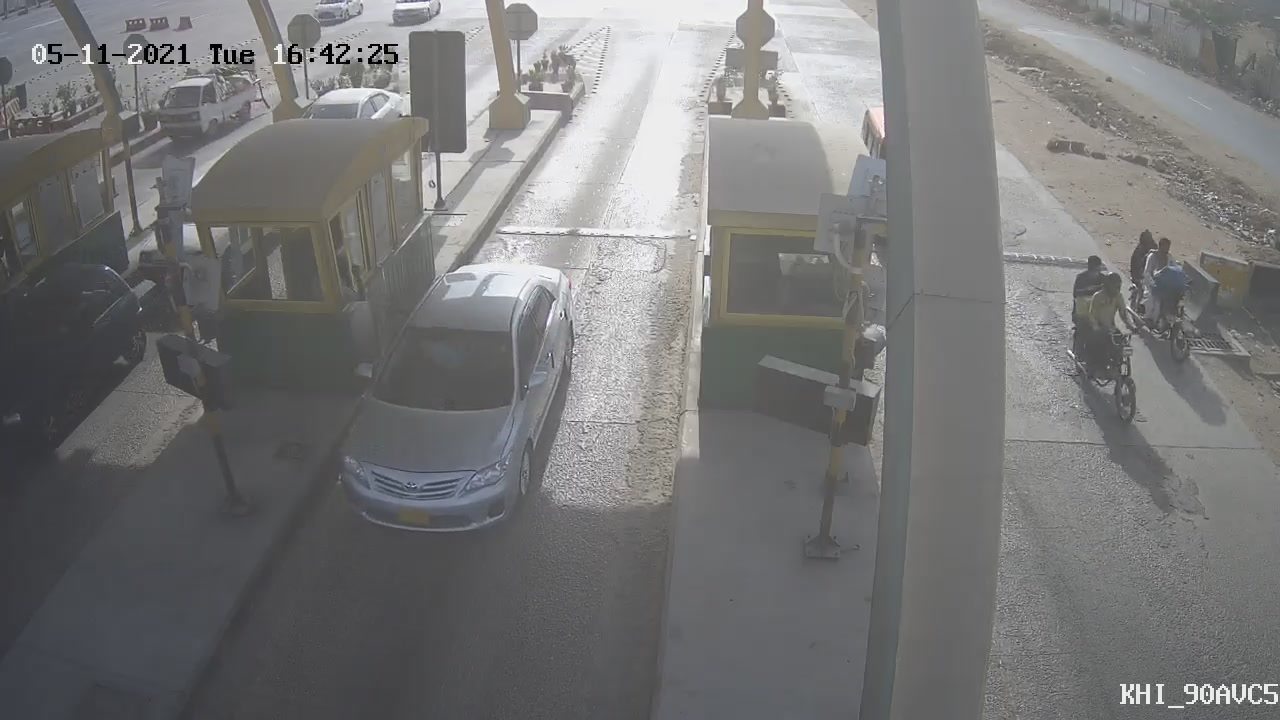F1: (322, 247, 596, 557)
